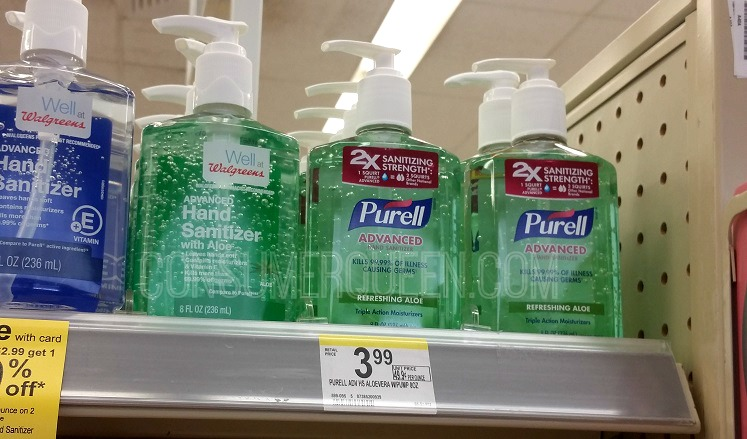Sanitizer: (119, 7, 309, 328), (303, 27, 476, 332), (467, 48, 633, 350), (1, 1, 145, 314)
